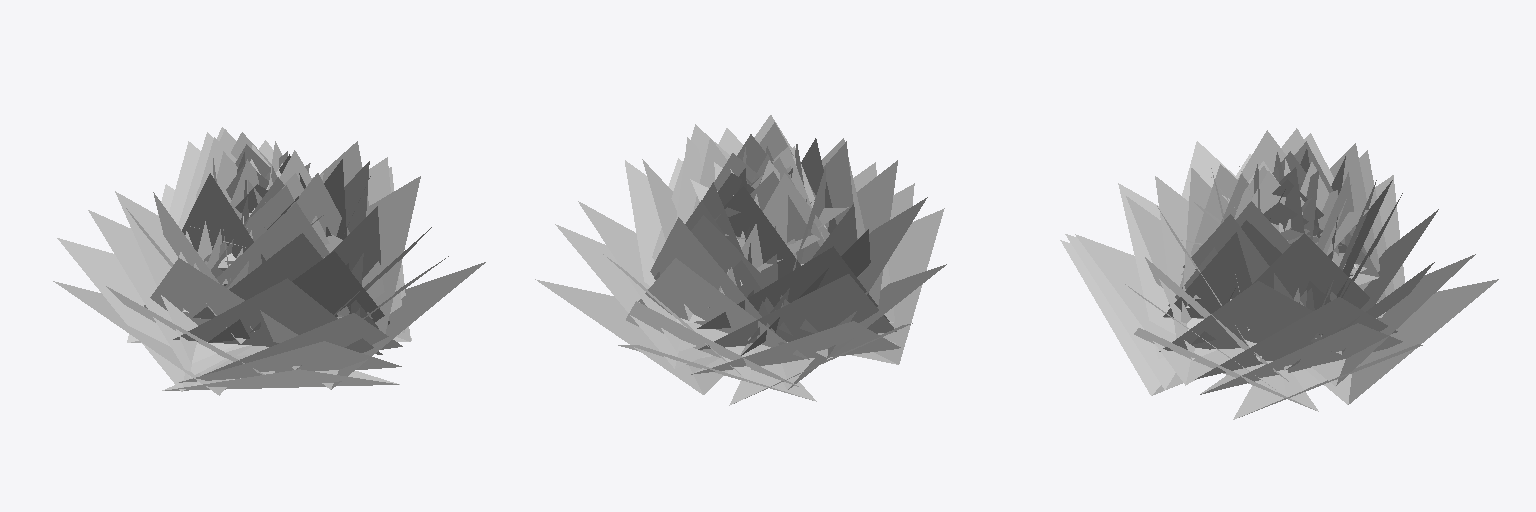
File: Bush_02.obj
3 views of the same model, side by side, from view 1: azimuth 30°, elevation 25°; view 2: azimuth 150°, elevation 25°; view 3: azimuth 270°, elevation 25° (orthographic).
Parts seen in each view (by area): view 1: tree; view 2: tree; view 3: tree.
Part boxes in pixels (x1,y1,x2,y2): tree: (53, 127, 485, 395); tree: (535, 115, 946, 405); tree: (1060, 128, 1498, 419).
Size of the model in its own units: 20.7 by 12.18 by 22.57.